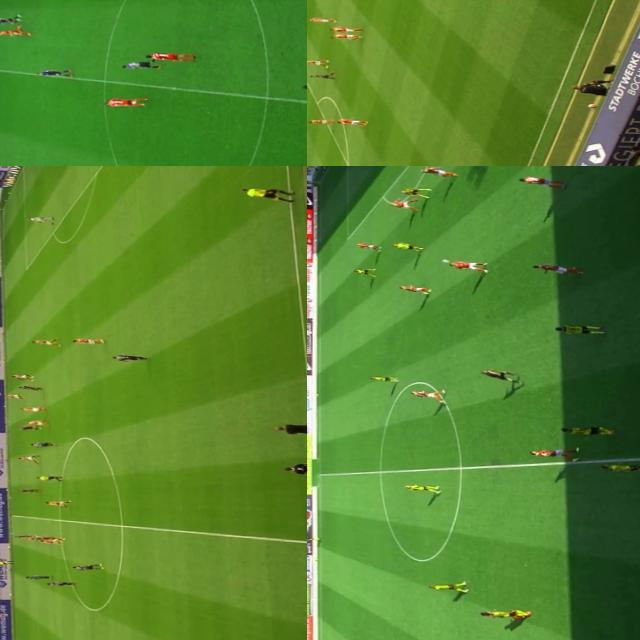ball: (122, 98, 138, 105), (438, 255, 452, 262)
player: (528, 444, 586, 458), (558, 424, 612, 436), (554, 322, 600, 336), (528, 261, 576, 274), (598, 461, 640, 474), (407, 388, 448, 401), (508, 175, 567, 184), (119, 57, 159, 70), (101, 96, 142, 108), (35, 68, 75, 78), (401, 482, 441, 492), (424, 580, 464, 590), (149, 52, 191, 61), (478, 609, 520, 618), (110, 352, 150, 361), (446, 260, 486, 269), (416, 167, 456, 176), (482, 607, 526, 615), (396, 284, 431, 294), (398, 187, 436, 196), (0, 28, 34, 37), (389, 198, 419, 208), (71, 336, 105, 344), (24, 214, 54, 223), (354, 239, 384, 248), (329, 26, 362, 34), (44, 498, 73, 507), (329, 30, 355, 40), (334, 118, 370, 125), (30, 336, 60, 344), (16, 453, 42, 462), (0, 14, 20, 25), (71, 563, 106, 569), (366, 374, 396, 381), (392, 242, 426, 248), (307, 15, 336, 22), (307, 57, 328, 66), (307, 118, 332, 125), (46, 579, 74, 585), (24, 418, 52, 424), (17, 384, 44, 390), (310, 72, 336, 78), (10, 372, 36, 378), (351, 268, 377, 274), (24, 534, 54, 539), (13, 532, 37, 538), (39, 537, 67, 542), (20, 405, 48, 410), (18, 424, 42, 429), (4, 392, 24, 398), (29, 441, 56, 445), (25, 574, 51, 578), (18, 488, 42, 492)
